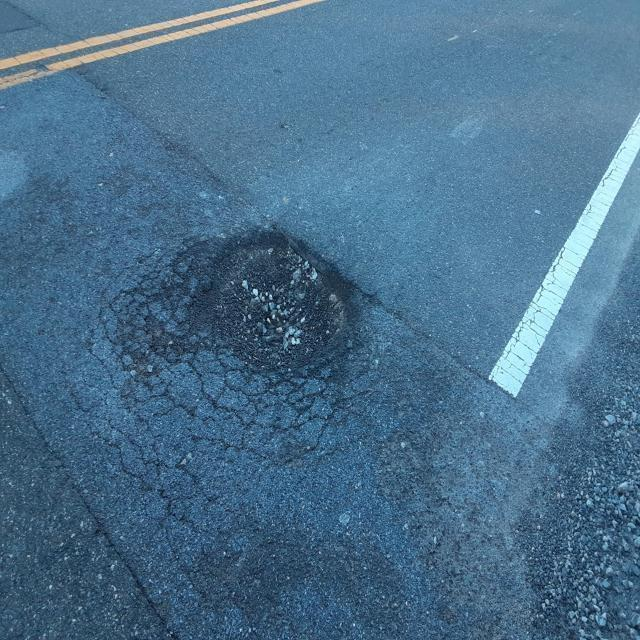Pothole: (116, 232, 359, 373)
